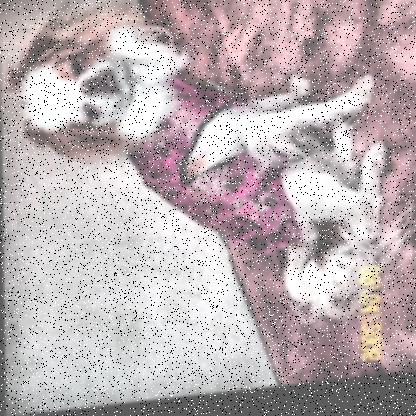dog: (7, 10, 145, 175)
